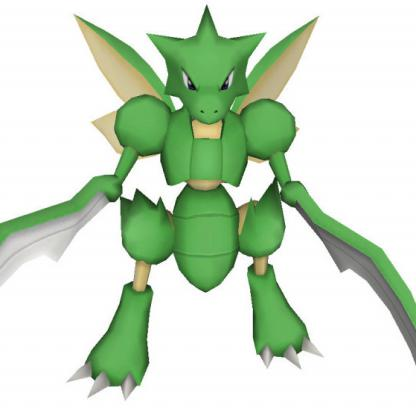Scyther: (1, 1, 416, 416), (1, 1, 330, 416)
